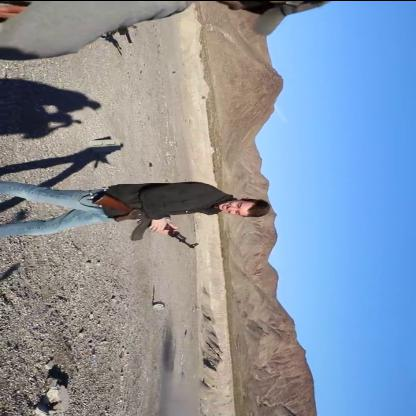long weapon: (90, 185, 202, 258)
